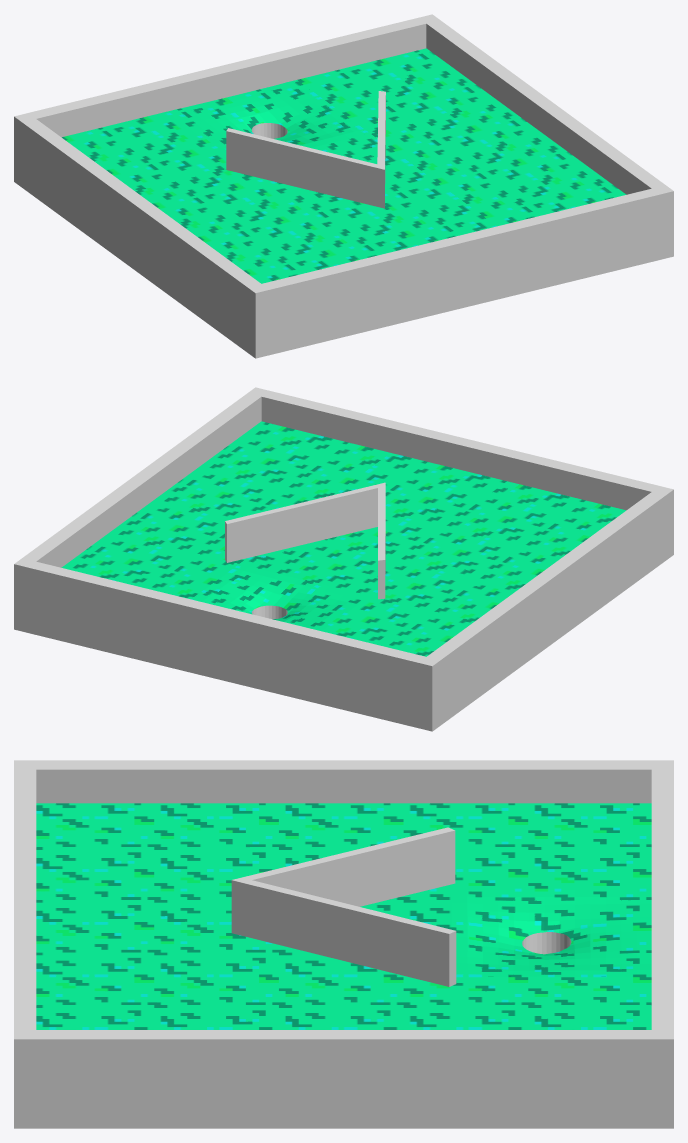
The model's file is NN2fixed.fbx.
The picture shows the model from 3 angles, top to bottom: view 1: azimuth 30°, elevation 25°; view 2: azimuth 150°, elevation 25°; view 3: azimuth 270°, elevation 25°; orthographic projection. The views are drawn at different scales.
Visible parts, largest first — view 1: Cube.003, Cube.002, Cube.001; view 2: Cube.003, Cube.002, Cube.001; view 3: Cube.002, Cube.003, Cube.001.
Boxes of the visible parts, x1,y1,x2,y2 form: Cube.003: (14,14,673,358); Cube.002: (62,48,626,283); Cube.001: (226,91,385,208); Cube.003: (14,387,673,731); Cube.002: (61,421,625,656); Cube.001: (225,482,385,599); Cube.002: (36,803,651,1029); Cube.003: (14,760,673,1128); Cube.001: (231,827,456,986).
Bounding box in the file's own units: 536 × 97.52 × 536.
